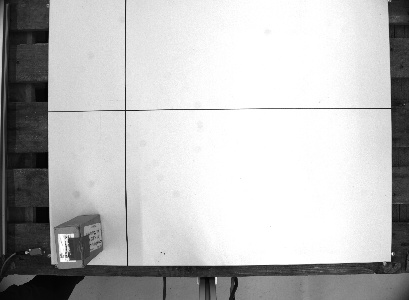b6: (51, 211, 105, 270)
